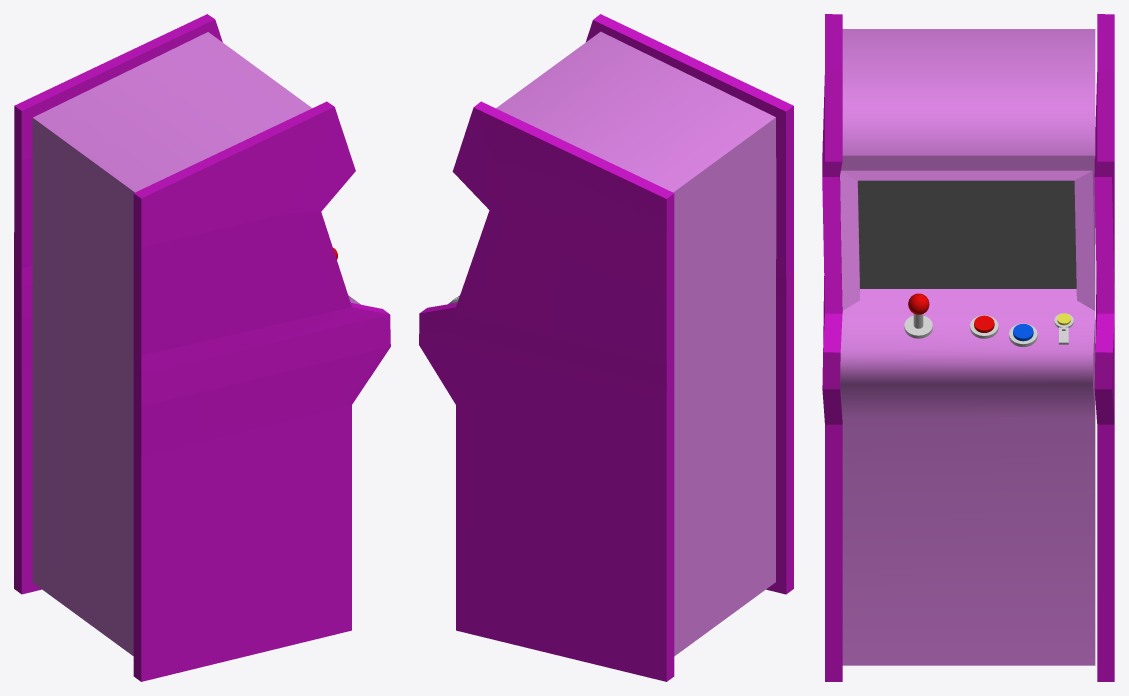
Rendered from ArcadeCabinet 2.fbx.
3 views of the same model, side by side, from view 1: azimuth 30°, elevation 25°; view 2: azimuth 150°, elevation 25°; view 3: azimuth 270°, elevation 25° (orthographic). The views are drawn at different scales.
Visible parts, largest first — view 1: pSphere2; view 2: pSphere2; view 3: pSphere2.
Part boxes in pixels (x1,y1,x2,y2): pSphere2: (14, 14, 390, 681); pSphere2: (419, 14, 793, 681); pSphere2: (822, 14, 1114, 681).
Bounding box in the file's own units: 884 × 1792 × 790.
